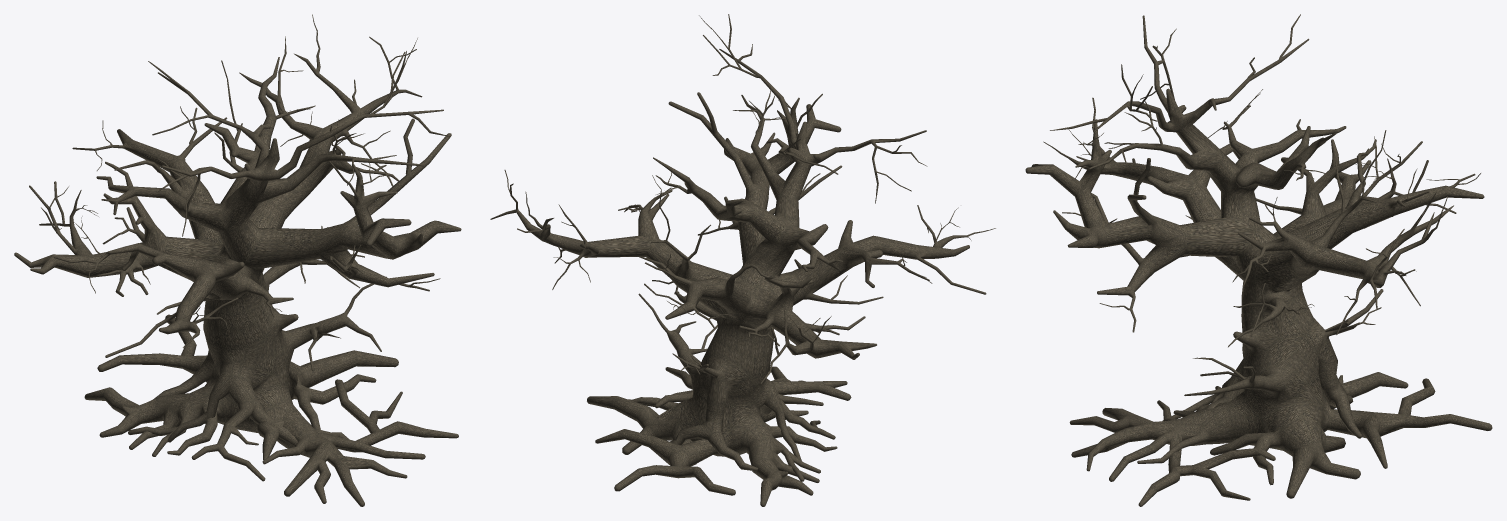
File: Tree.FBX
3 views of the same model, side by side, from view 1: azimuth 30°, elevation 25°; view 2: azimuth 150°, elevation 25°; view 3: azimuth 270°, elevation 25° (orthographic). The views are drawn at different scales.
Visible parts, largest first — view 1: Group43652; view 2: Group43652; view 3: Group43652.
Part boxes in pixels (x1=…): Group43652: x1=14, y1=14, x2=461, y2=506; Group43652: x1=490, y1=14, x2=995, y2=506; Group43652: x1=1025, y1=14, x2=1492, y2=506.
Size of the model in its own units: 12.02 by 11.13 by 11.
